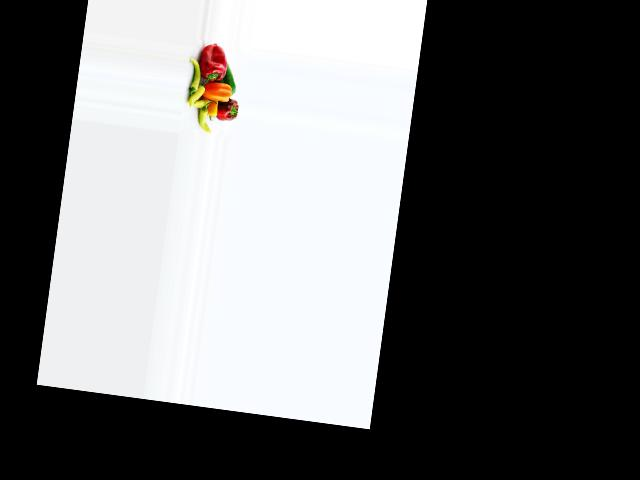bell_pepper: (185, 55, 202, 98)
